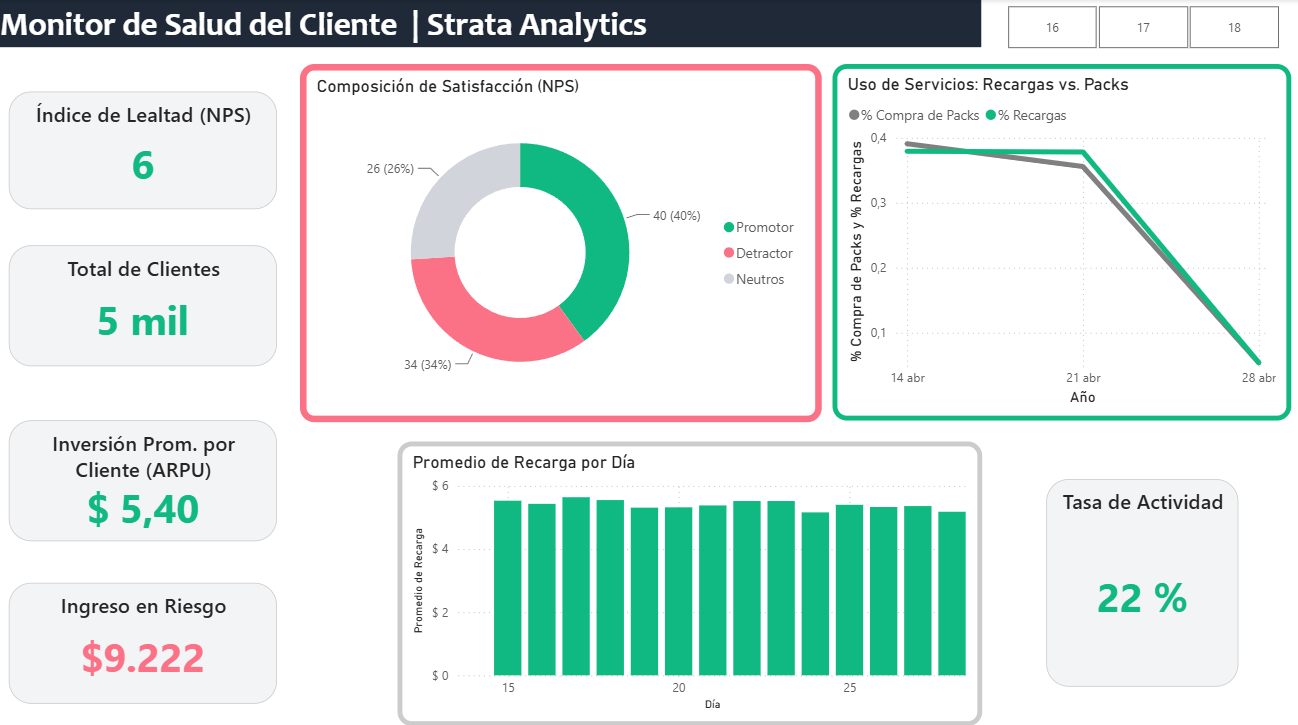

This screenshot's page, from the dashboard's own definition file:
{"tool":"powerbi","page":{"name":"Página 1","canvas":[1280,720],"ordinal":0},"visuals":[{"type":"donutChart","title":"Composición de Satisfacción (NPS)","fields":{"Category":["nps.segmento_nps"],"Y":["Sum(nps.Porcentaje_Segmento)"]},"box":[298.3,63.3,510,350],"z":0},{"type":"card","title":"Índice de Lealtad (NPS)","fields":{"Values":["nps.NPS Final"]},"box":[13.8,90,262.5,115],"z":1000},{"type":"lineChart","title":"Uso de Servicios: Recargas vs. Packs","fields":{"Category":["Evolución semanal de actividad.Inicio Semana.Variación.Jerarquía de fechas.Año","Evolución semanal de actividad.Inicio Semana.Variación.Jerarquía de fechas.Trimestre","Evolución semanal de actividad.Inicio Semana.Variación.Jerarquía de fechas.Mes","Evolución semanal de actividad.Inicio Semana.Variación.Jerarquía de fechas.Día"],"Y":["Sum(Evolución semanal de actividad.Porcentaje Clientes Packs)","Sum(Evolución semanal de actividad.Porcentaje Clientes que Recargaron)"]},"box":[818.8,63.8,448.8,348.8],"z":2000},{"type":"shape","box":[0,0,1280,47.1],"z":3000},{"type":"textbox","box":[0,0,1280,55],"z":4000},{"type":"card","title":"Total de Clientes","fields":{"Values":["Avg(colo.Total_clientes)"]},"box":[13.8,241.2,262.5,118.8],"z":5000},{"type":"card","title":"Inversión Prom. por Cliente (ARPU)","fields":{"Values":["Avg(Dinámica de Ingresos Facturación VS Ticket promedio.Promedio Recarga)"]},"box":[13.8,412.5,262.5,118.8],"z":6000},{"type":"clusteredColumnChart","fields":{"Y":["Avg(Dinámica de Ingresos Facturación VS Ticket promedio.Promedio Recarga)"],"Category":["Dinámica de Ingresos Facturación VS Ticket promedio.Día"]},"box":[393.3,433.3,571.7,278.3],"z":7000},{"type":"slicer","fields":{"Values":["juampi.Semana_Nro"]},"box":[965,0,315,55],"z":8000},{"type":"card","title":"Ingreso en Riesgo","fields":{"Values":["colo.Ingreso en Riesgo"]},"box":[13.8,571.2,262.5,118.8],"z":9000},{"type":"card","title":"Tasa de Actividad","fields":{"Values":["colo.% Actividad"]},"box":[1028.3,470,188.3,203.3],"z":10000}]}

Visuals, with their boxes in screenshot pixels (x1, y1, x2, y2), scaled from the page's 1280x720 canvas onto the 1298x725 screenshot:
"Composición de Satisfacción (NPS)" donutChart: Rect(302, 64, 820, 416)
"Índice de Lealtad (NPS)" card: Rect(14, 91, 280, 206)
"Uso de Servicios: Recargas vs. Packs" lineChart: Rect(830, 64, 1285, 415)
shape: Rect(0, 0, 1297, 47)
textbox: Rect(0, 0, 1297, 55)
"Total de Clientes" card: Rect(14, 243, 280, 362)
"Inversión Prom. por Cliente (ARPU)" card: Rect(14, 415, 280, 535)
clusteredColumnChart - Avg(Dinámica de Ingresos Facturación VS Ticket promedio.Promedio Recarga) x Dinámica de Ingresos Facturación VS Ticket promedio.Día: Rect(399, 436, 979, 717)
slicer - juampi.Semana_Nro: Rect(979, 0, 1297, 55)
"Ingreso en Riesgo" card: Rect(14, 575, 280, 695)
"Tasa de Actividad" card: Rect(1043, 473, 1234, 678)
